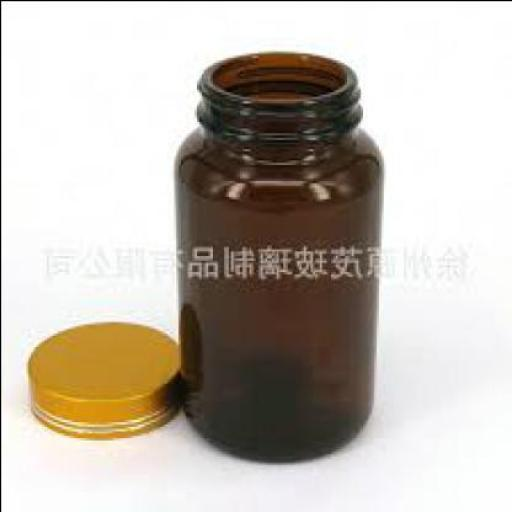glass: (178, 50, 384, 462)
metal: (30, 319, 184, 434)
